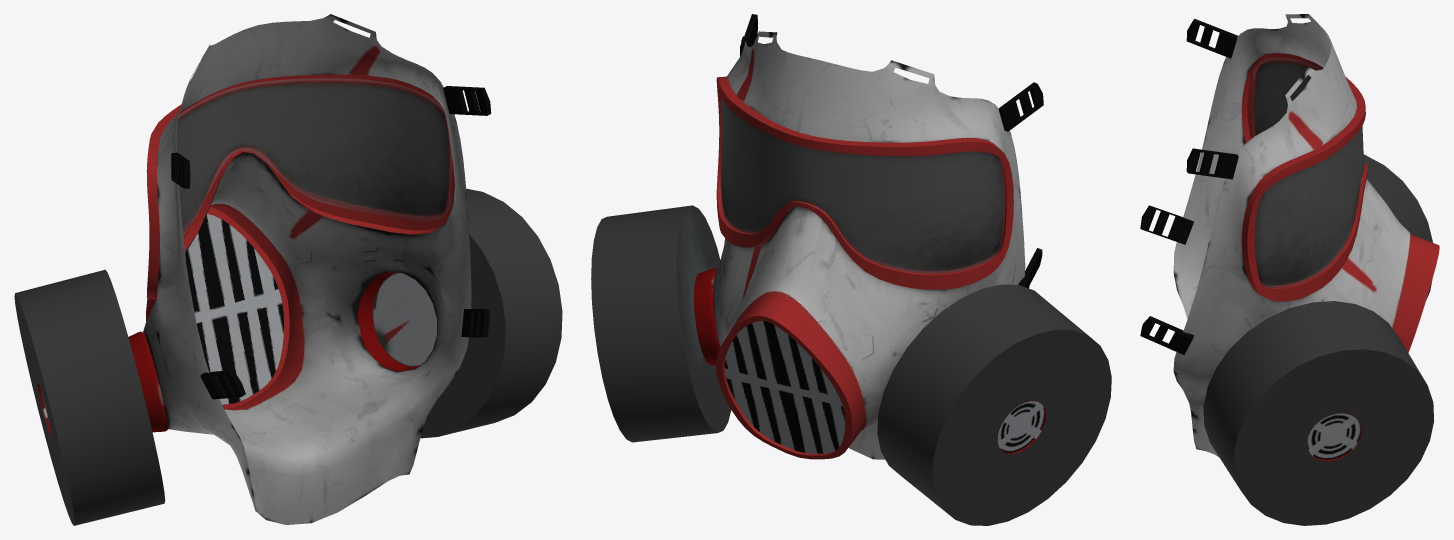
File: gas_mask_white.glb
3 views of the same model, side by side, from view 1: azimuth 30°, elevation 25°; view 2: azimuth 150°, elevation 25°; view 3: azimuth 270°, elevation 25° (orthographic). The views are drawn at different scales.
Parts seen in each view (by area): view 1: gas_mask_white_1, gas_mask_white_0; view 2: gas_mask_white_1, gas_mask_white_0; view 3: gas_mask_white_1, gas_mask_white_0.
Boxes of the visible parts, <box> form: gas_mask_white_1: <box>14,14,562,525</box>; gas_mask_white_0: <box>171,86,491,399</box>; gas_mask_white_1: <box>591,31,1111,525</box>; gas_mask_white_0: <box>740,14,1043,288</box>; gas_mask_white_1: <box>1173,14,1439,525</box>; gas_mask_white_0: <box>1140,18,1238,354</box>.
Size of the model in its own units: 0.289 by 0.2526 by 0.1644.
2 materials, 1 textured.
